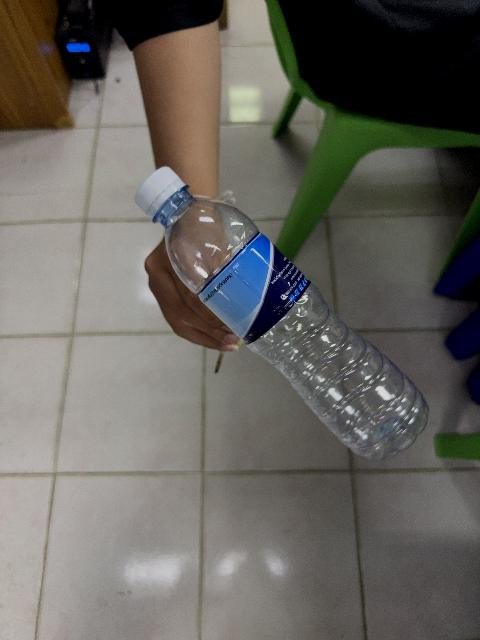bottle: (136, 168, 427, 460)
